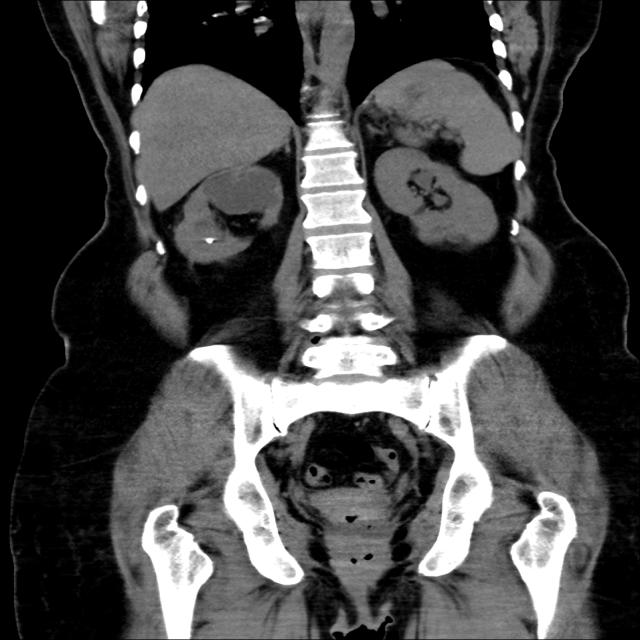kidneystone: (205, 238, 215, 244)
